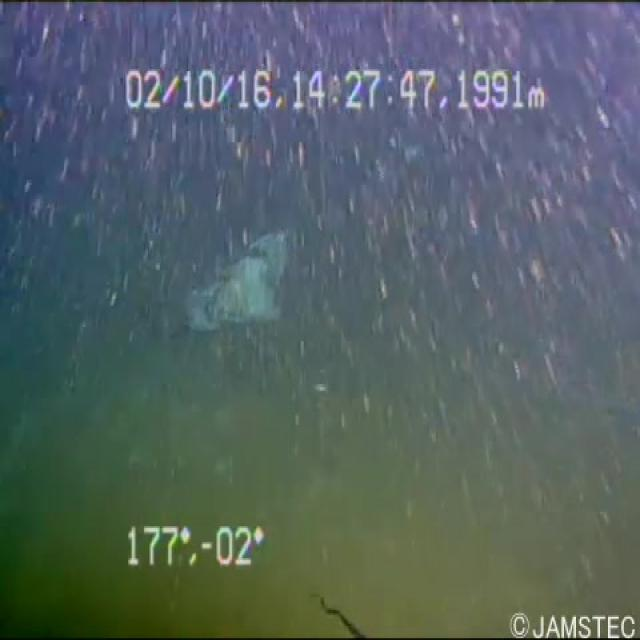plastic: (169, 213, 303, 359), (379, 125, 432, 198)
